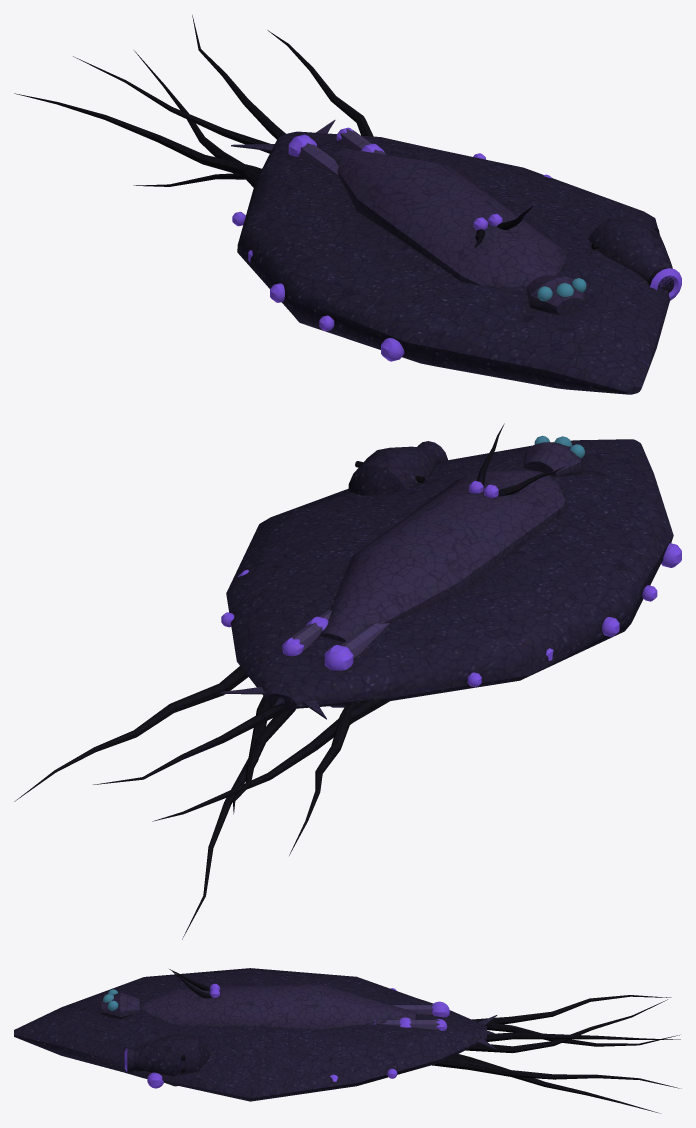
The model's file is void_picket.glb.
3 views of the same model, one above another, from view 1: azimuth 30°, elevation 25°; view 2: azimuth 150°, elevation 25°; view 3: azimuth 270°, elevation 25° (orthographic). The views are drawn at different scales.
Parts seen in each view (by area): view 1: HULL, SYS_WPN1, SYS_BRIDGE, SYS_BUS_A, SYS_SENSORS; view 2: HULL, SYS_WPN1, SYS_BUS_A, SYS_BRIDGE, SYS_SENSORS; view 3: HULL, SYS_WPN1, SYS_BUS_A, SYS_BRIDGE, SYS_SENSORS.
Boxes of the visible parts, x1=… form: HULL: x1=14, y1=15, x2=670, y2=394; SYS_WPN1: x1=588, y1=216, x2=681, y2=300; SYS_BRIDGE: x1=527, y1=275, x2=586, y2=315; SYS_BUS_A: x1=288, y1=127, x2=386, y2=176; SYS_SENSORS: x1=473, y1=205, x2=532, y2=248; HULL: x1=14, y1=439, x2=681, y2=939; SYS_WPN1: x1=348, y1=441, x2=447, y2=495; SYS_BUS_A: x1=282, y1=600, x2=389, y2=670; SYS_BRIDGE: x1=524, y1=435, x2=584, y2=476; SYS_SENSORS: x1=469, y1=423, x2=565, y2=498; HULL: x1=14, y1=968, x2=681, y2=1113; SYS_WPN1: x1=124, y1=1033, x2=209, y2=1086; SYS_BUS_A: x1=373, y1=1001, x2=449, y2=1030; SYS_BRIDGE: x1=101, y1=989, x2=139, y2=1018; SYS_SENSORS: x1=169, y1=969, x2=219, y2=998.
Size of the model in its own units: 14.11 by 8.5 by 32.32.
1 material, 1 textured.
